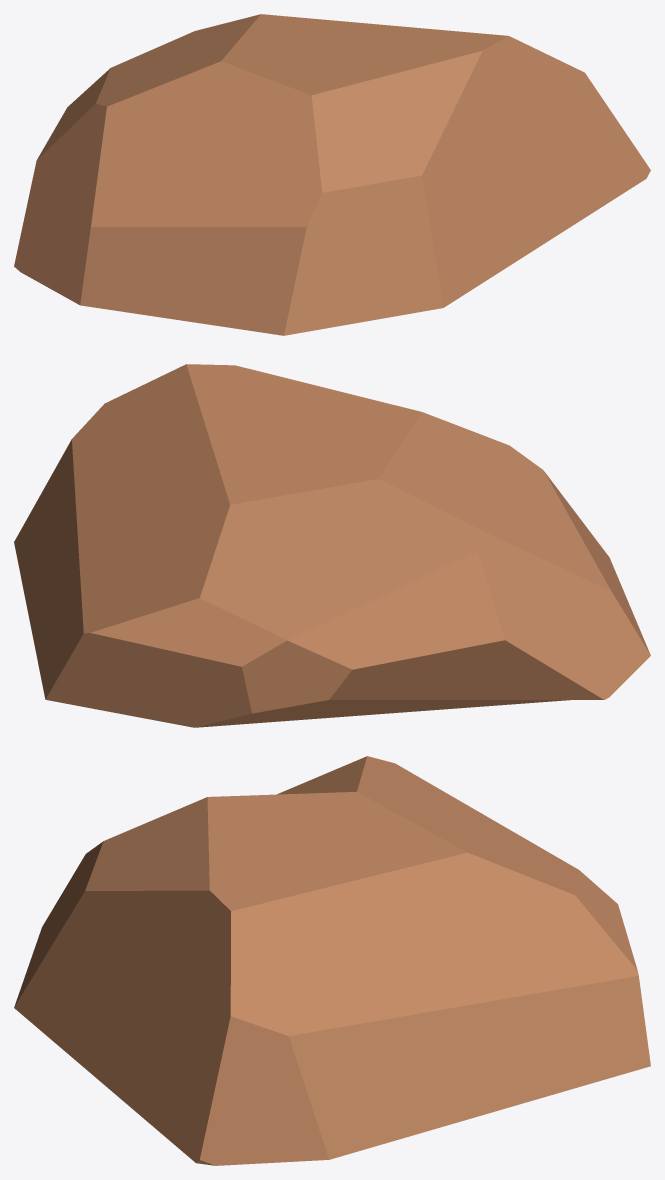
File: DesertRockSmall_03.fbx
3 views of the same model, one above another, from view 1: azimuth 30°, elevation 25°; view 2: azimuth 150°, elevation 25°; view 3: azimuth 270°, elevation 25° (orthographic). The views are drawn at different scales.
Visible parts, largest first — view 1: RockFlat.003; view 2: RockFlat.003; view 3: RockFlat.003.
Part boxes in pixels (x1=…): RockFlat.003: x1=14, y1=14, x2=650, y2=335; RockFlat.003: x1=14, y1=364, x2=650, y2=727; RockFlat.003: x1=14, y1=756, x2=650, y2=1165.
Size of the model in its own units: 307 by 85.35 by 261.
